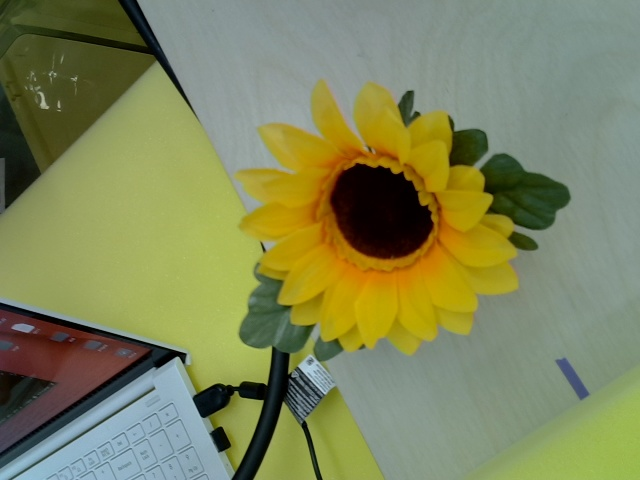해바라기: (241, 86, 518, 354)
